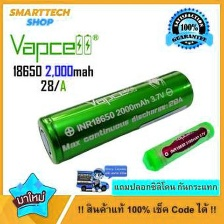battery: (34, 67, 196, 167), (140, 118, 216, 176)
